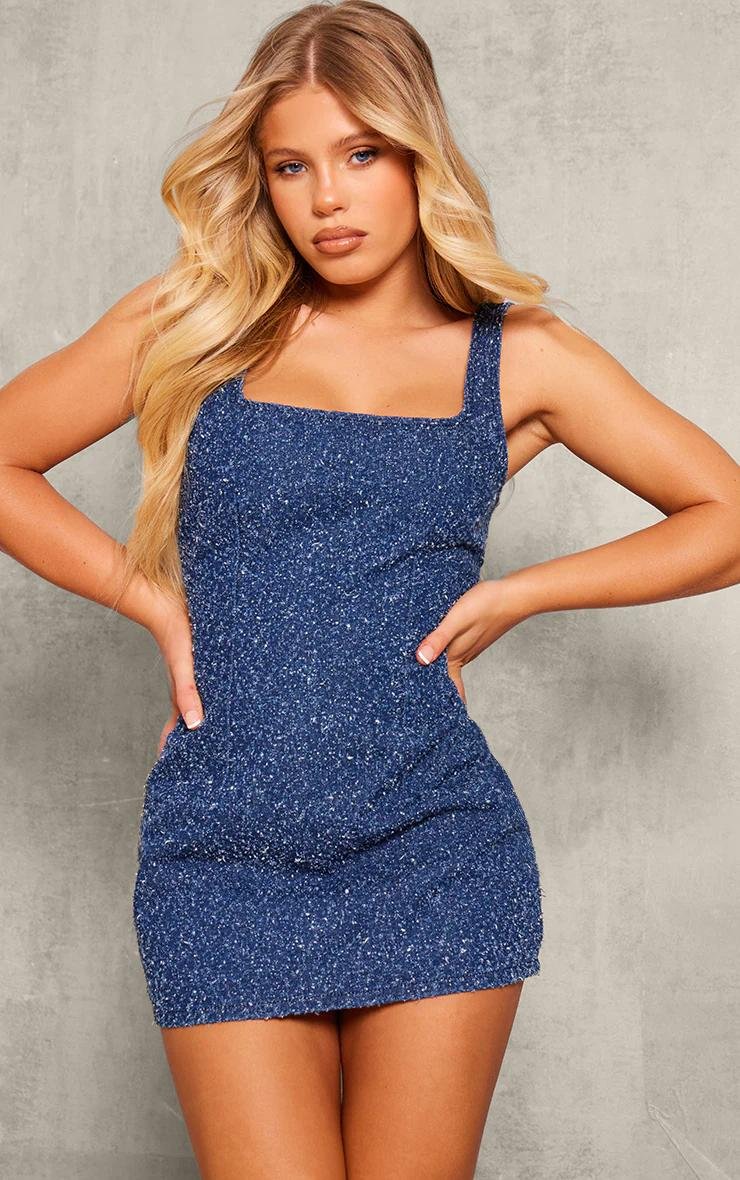dress: (135, 262, 546, 1035)
